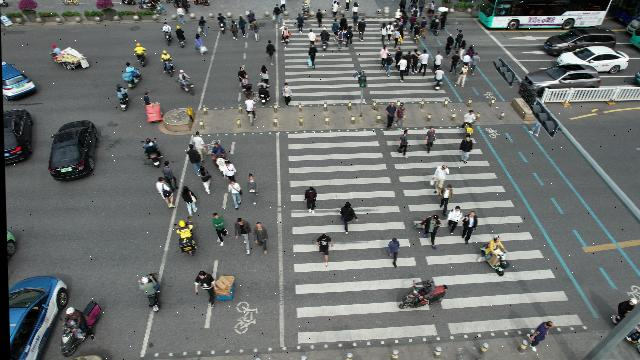non-motor-vehicle: (60, 301, 104, 345), (480, 234, 508, 278), (172, 220, 201, 258), (51, 46, 92, 70), (402, 280, 436, 308), (136, 274, 162, 310), (255, 78, 273, 106), (141, 138, 160, 164), (386, 100, 405, 126), (241, 98, 258, 127), (123, 65, 143, 89), (3, 146, 24, 168), (210, 142, 227, 168), (175, 72, 193, 92), (459, 138, 474, 162), (133, 44, 148, 66), (161, 50, 174, 74), (116, 87, 129, 111), (173, 26, 187, 48), (429, 15, 442, 37), (161, 22, 173, 44), (217, 14, 228, 34), (433, 70, 443, 90), (280, 29, 292, 45), (321, 28, 329, 50), (302, 1, 311, 18), (414, 22, 420, 42), (427, 2, 436, 14), (248, 10, 255, 24), (394, 10, 401, 24), (412, 6, 420, 18)
person: (190, 268, 234, 304), (250, 220, 271, 254), (527, 322, 552, 350), (152, 176, 173, 207), (314, 232, 332, 266), (235, 218, 250, 256), (339, 201, 357, 231), (243, 171, 261, 201), (179, 186, 198, 214), (458, 110, 478, 136), (237, 67, 253, 97), (185, 145, 202, 173), (385, 238, 401, 266), (210, 212, 224, 244), (397, 128, 412, 156), (191, 129, 206, 157), (430, 166, 450, 186), (437, 184, 452, 210), (302, 186, 317, 212), (457, 62, 471, 88), (448, 205, 460, 235), (226, 181, 239, 207), (305, 45, 318, 69), (220, 162, 236, 180), (424, 127, 436, 151), (193, 34, 207, 54), (281, 84, 293, 106), (397, 55, 406, 83), (419, 49, 428, 76), (265, 42, 277, 62), (202, 174, 213, 194), (410, 49, 419, 73), (471, 52, 480, 76), (344, 26, 354, 47), (380, 46, 389, 68), (429, 216, 440, 234), (439, 10, 450, 28), (162, 162, 174, 178), (336, 27, 344, 51), (274, 4, 283, 24), (199, 16, 208, 36), (238, 16, 247, 36), (462, 50, 471, 70), (393, 28, 401, 50), (445, 34, 453, 56), (455, 28, 463, 50), (351, 12, 360, 31), (404, 50, 411, 74), (420, 15, 427, 39), (177, 5, 186, 23), (229, 20, 238, 38), (458, 39, 466, 59), (251, 20, 258, 42), (332, 19, 339, 40), (295, 14, 304, 30), (434, 53, 443, 69), (359, 20, 366, 40), (394, 46, 401, 66), (140, 93, 150, 106), (309, 30, 317, 46), (381, 22, 387, 42), (195, 167, 207, 177), (352, 2, 360, 17), (317, 10, 324, 26), (340, 16, 347, 32), (387, 21, 392, 43), (258, 64, 267, 76), (332, 1, 338, 18), (467, 44, 473, 60), (384, 63, 391, 76), (411, 13, 416, 31), (403, 12, 408, 28)
